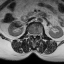CCS_normal: (33, 31, 35, 39)
LFS_stenosis: (37, 32, 39, 37)
LLS_normal: (35, 32, 37, 38)
RFS_normal: (30, 32, 32, 37)
RLS_normal: (32, 32, 33, 37)
